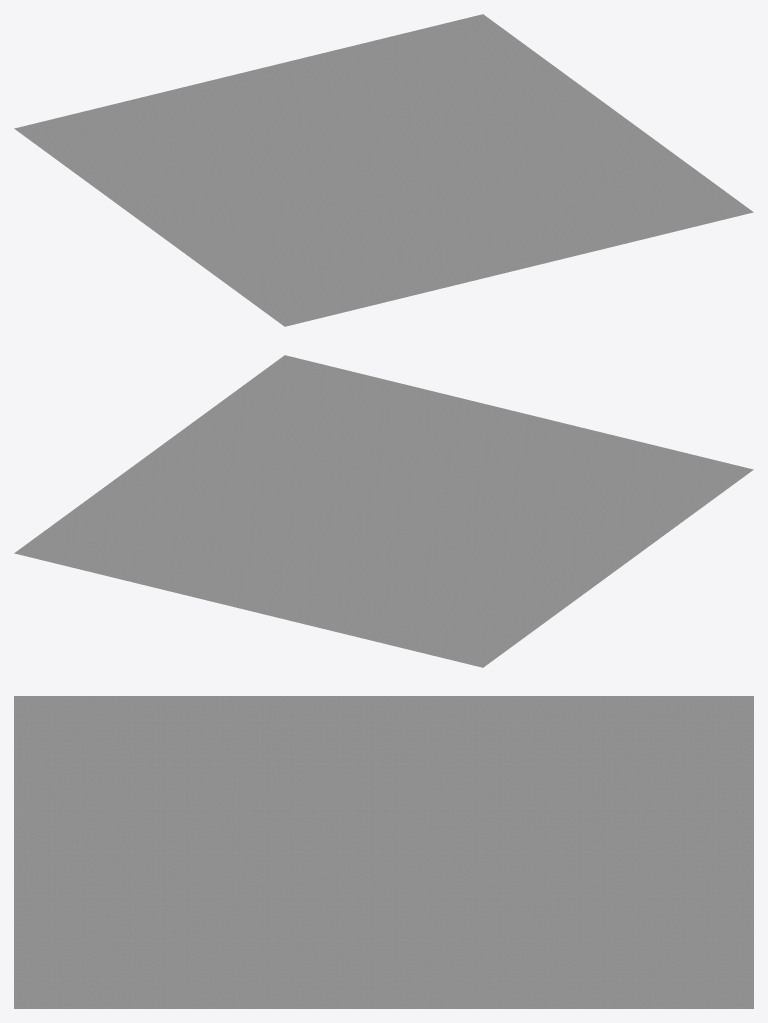
The model's file is WorldPlane.obj.
The picture shows the model from 3 angles, top to bottom: view 1: azimuth 30°, elevation 25°; view 2: azimuth 150°, elevation 25°; view 3: azimuth 270°, elevation 25°; orthographic projection. The views are drawn at different scales.
Visible parts, largest first — view 1: Plane; view 2: Plane; view 3: Plane.
Boxes of the visible parts, left/top/right/bottom form: Plane: left=14, top=14, right=753, bottom=326; Plane: left=14, top=355, right=753, bottom=667; Plane: left=14, top=696, right=753, bottom=1008.
Size of the model in its own units: 1200 by 0 by 1200.
